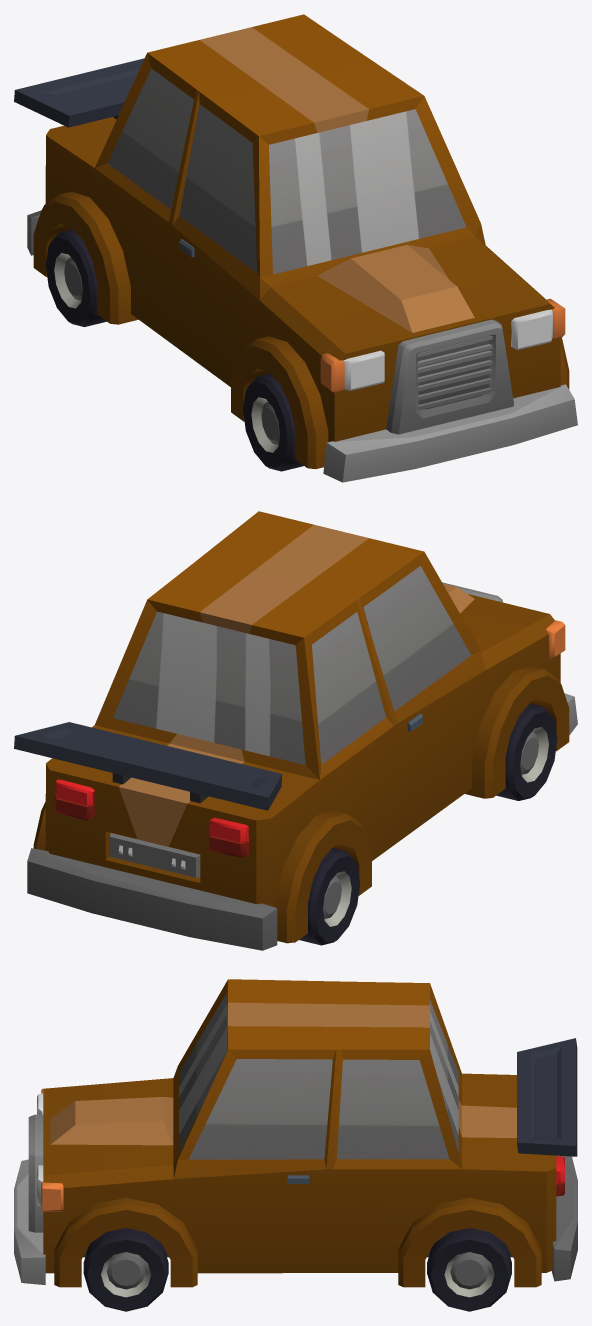
Rendered from SportCar_3.fbx.
3 renders of one model, top to bottom at view 1: azimuth 30°, elevation 25°; view 2: azimuth 150°, elevation 25°; view 3: azimuth 270°, elevation 25°, orthographic. The views are drawn at different scales.
Parts seen in each view (by area): view 1: SportCar_3, Wheel_fr, Wheel_br; view 2: SportCar_3, Wheel_br, Wheel_fr; view 3: SportCar_3, Wheel_fl, Wheel_bl.
Boxes of the visible parts, x1,y1,x2,y2 form: SportCar_3: [14, 14, 577, 482]; Wheel_fr: [243, 373, 303, 471]; Wheel_br: [45, 229, 106, 326]; SportCar_3: [14, 511, 577, 950]; Wheel_br: [299, 847, 360, 945]; Wheel_fr: [496, 703, 557, 800]; SportCar_3: [14, 979, 577, 1287]; Wheel_fl: [83, 1228, 168, 1311]; Wheel_bl: [427, 1228, 511, 1311].
Bounding box in the file's own units: 1.12 × 1.1 × 2.33.
